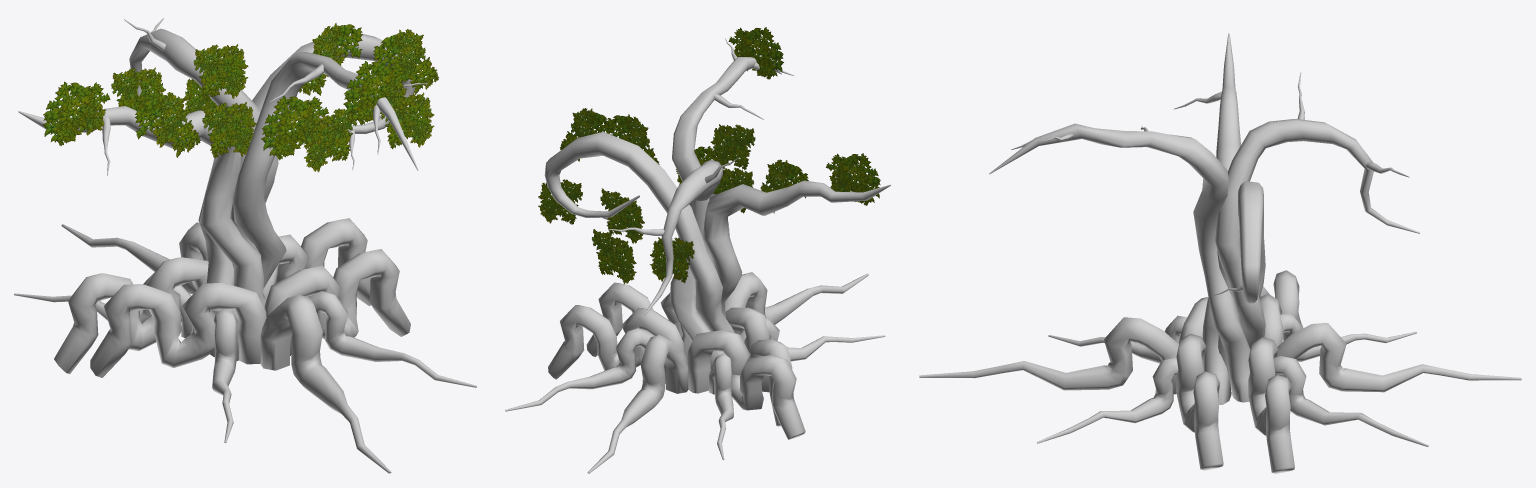
Rendered from Plant_Mutant1.fbx.
The picture shows the model from 3 angles, left to right: view 1: azimuth 30°, elevation 25°; view 2: azimuth 150°, elevation 25°; view 3: azimuth 270°, elevation 25°; orthographic projection. The views are drawn at different scales.
Visible parts, largest first — view 1: Branch2, polySurface4, polySurface1, Branch4, Branch5, Branch9, Branch6, polySurface2, Leaves, Leaves8, polySurface3, Branch1 (+13 smaller); view 2: polySurface3, Branch9, polySurface1, Branch6, polySurface2, Branch8, polySurface4, Branch4, Branch7, Branch2, Branch5, Leaves4 (+13 smaller); view 3: polySurface4, polySurface2, Branch4, Branch8, Branch5, Branch6, polySurface1, polySurface3, Branch7, Branch1, Branch9, Branch3 (+2 smaller).
Boxes of the visible parts, box(x1,y1,x2,y2) form: Branch2: box(90, 282, 266, 377); polySurface4: box(233, 52, 418, 298); polySurface1: box(18, 106, 266, 308); Branch4: box(260, 294, 391, 473); Branch5: box(264, 249, 410, 355); Branch9: box(54, 257, 208, 373); Branch6: box(275, 218, 370, 305); polySurface2: box(129, 28, 278, 333); Leaves: box(42, 81, 110, 145); Leaves8: box(261, 96, 328, 160); polySurface3: box(198, 33, 415, 357); Branch1: box(292, 291, 476, 387); polySurface3: box(544, 132, 734, 332); Branch9: box(687, 330, 805, 439); polySurface1: box(703, 180, 890, 317); Branch6: box(548, 305, 683, 383); polySurface2: box(644, 160, 723, 369); Branch8: box(587, 335, 688, 473); polySurface4: box(672, 57, 781, 360); Branch4: box(724, 272, 868, 324); Branch7: box(505, 328, 654, 411); Branch2: box(725, 307, 792, 426); Branch5: box(586, 282, 682, 356); Leaves4: box(728, 27, 783, 79); polySurface4: box(989, 123, 1250, 402); polySurface2: box(1215, 119, 1419, 349); Branch4: box(919, 317, 1178, 394); Branch8: box(1277, 323, 1521, 392); Branch5: box(1176, 333, 1223, 470); Branch6: box(1248, 337, 1294, 473); polySurface1: box(1202, 33, 1240, 404); polySurface3: box(1238, 181, 1265, 303); Branch7: box(1273, 356, 1428, 446); Branch1: box(1037, 357, 1178, 443); Branch9: box(1259, 270, 1301, 346); Branch3: box(1280, 313, 1416, 361).
Bounding box in the file's own units: 576 × 474 × 775.
